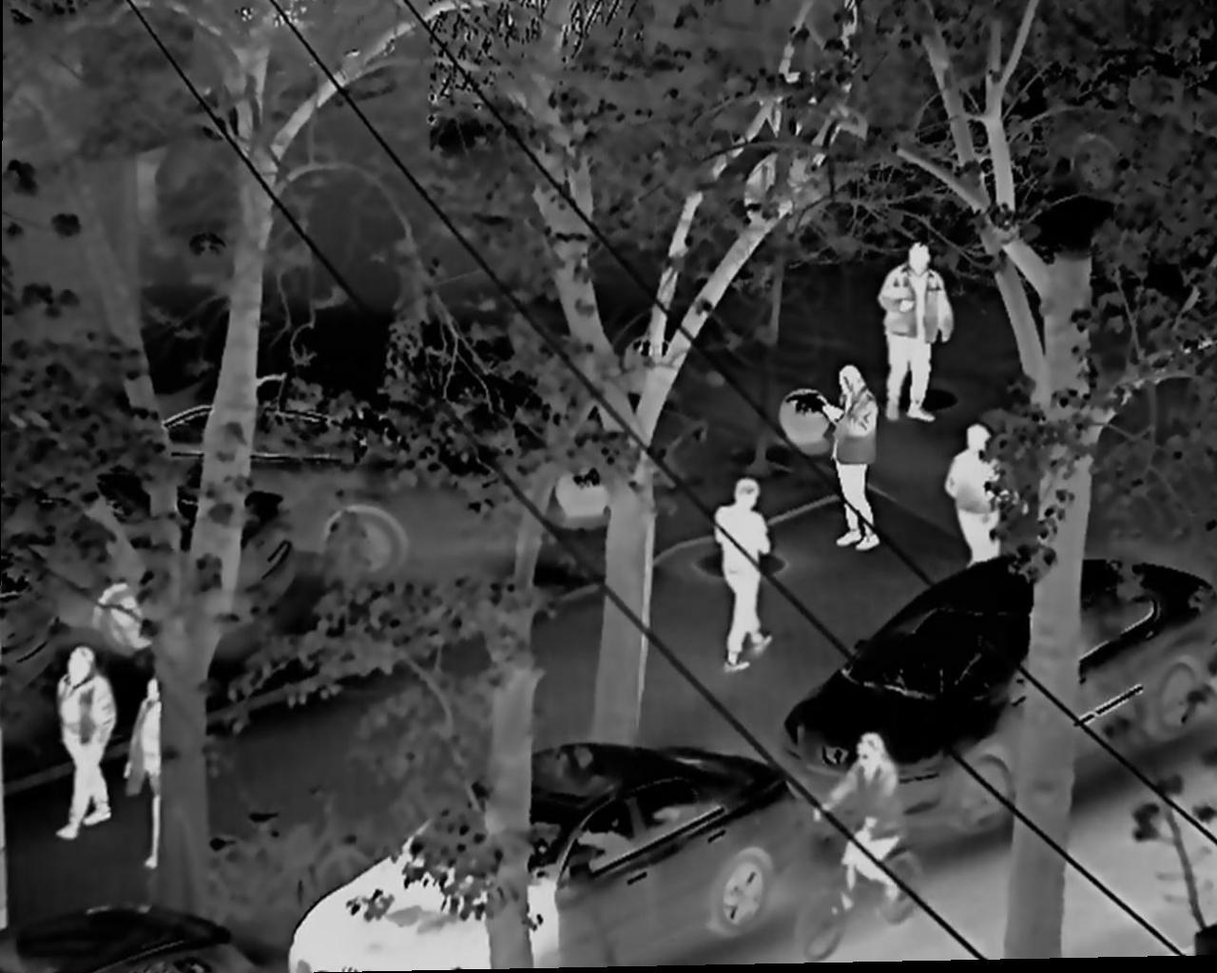person: (810, 728, 905, 910), (867, 241, 951, 428), (710, 474, 777, 677), (56, 644, 115, 842), (820, 362, 879, 551), (946, 426, 1010, 572), (123, 680, 160, 868)
